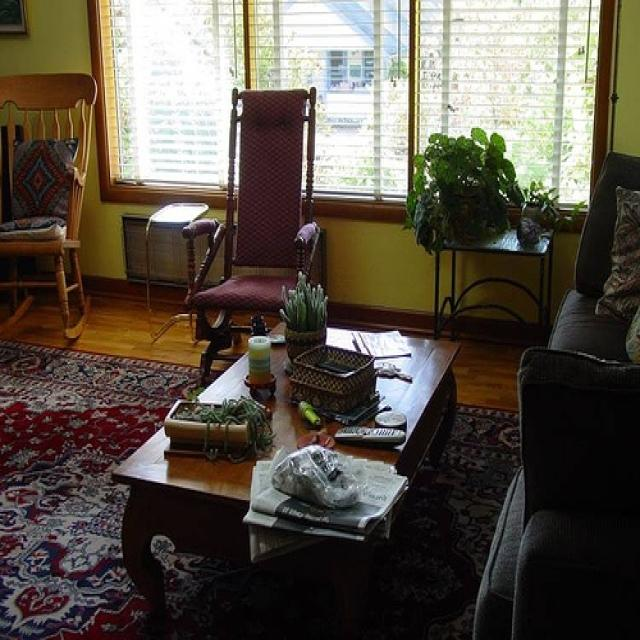chair: (176, 85, 326, 381), (2, 72, 98, 344)
pottedplant: (404, 126, 521, 253), (162, 394, 276, 466), (279, 273, 332, 364)
sofa: (474, 152, 638, 636)
